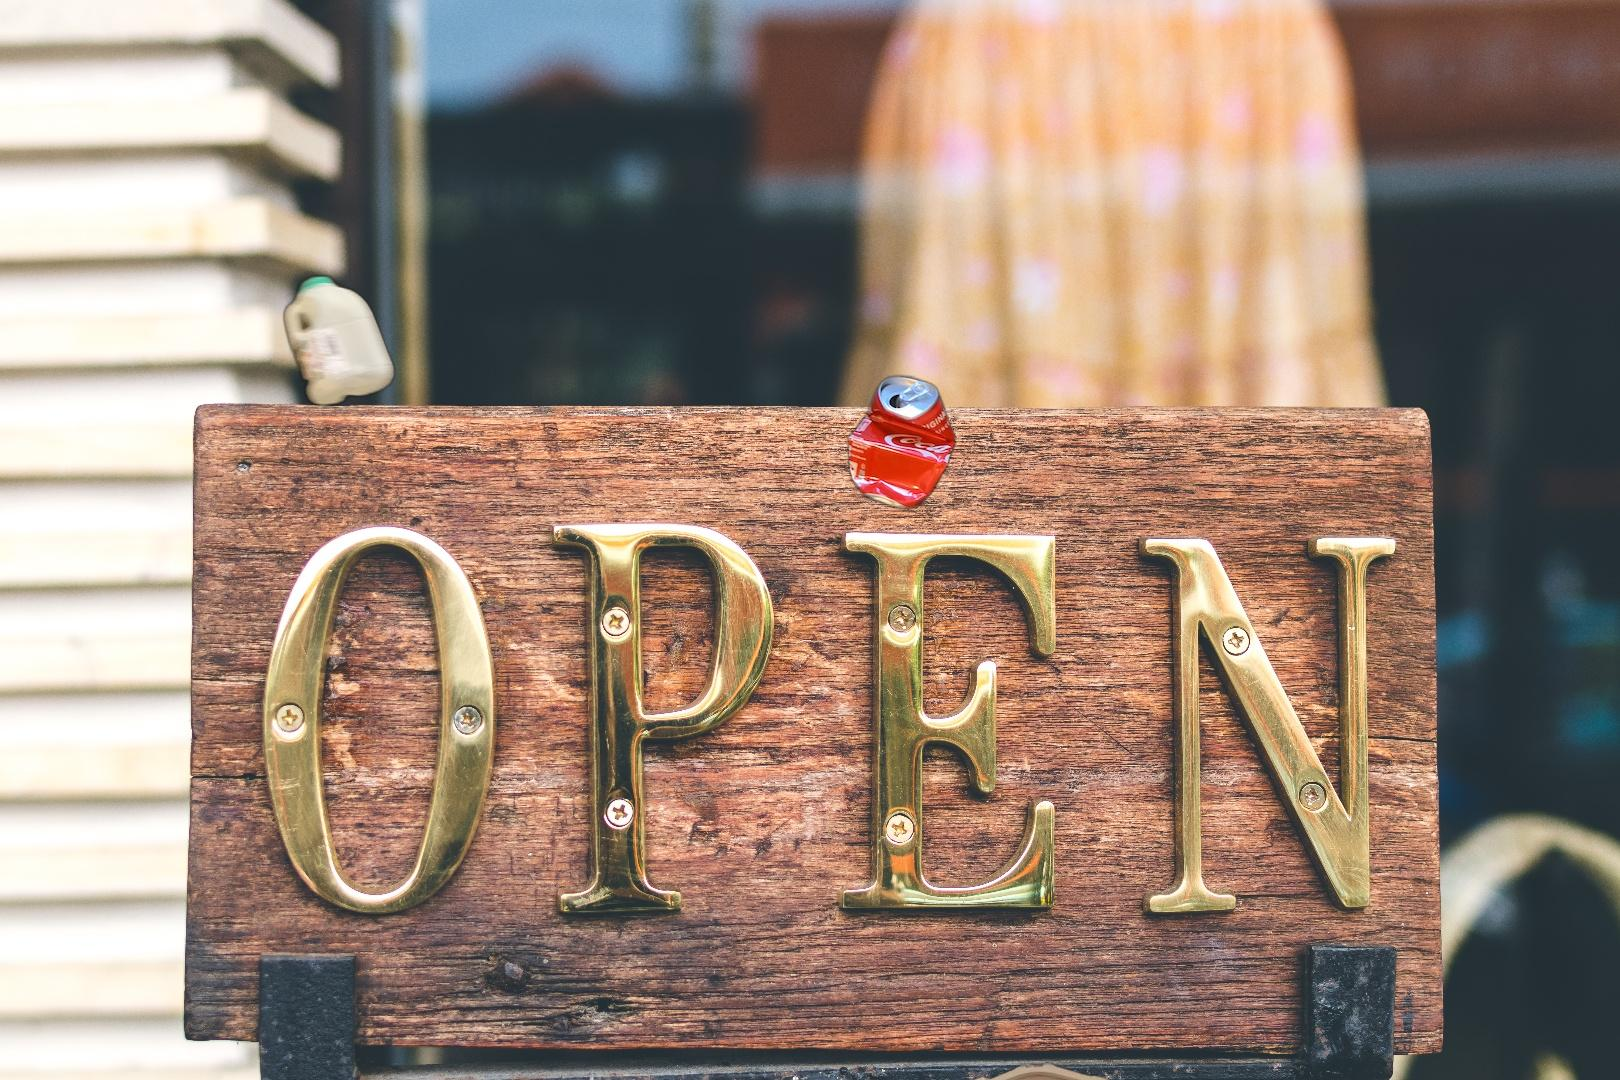clothes: (805, 1063, 1270, 1080)
metal-cans: (843, 370, 961, 516)
plastic-bottles: (280, 269, 399, 411)
